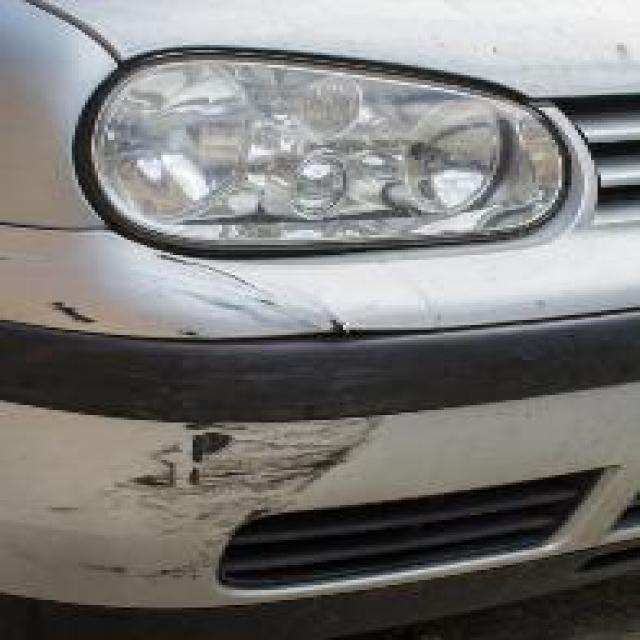Bumper: (13, 240, 513, 598)
